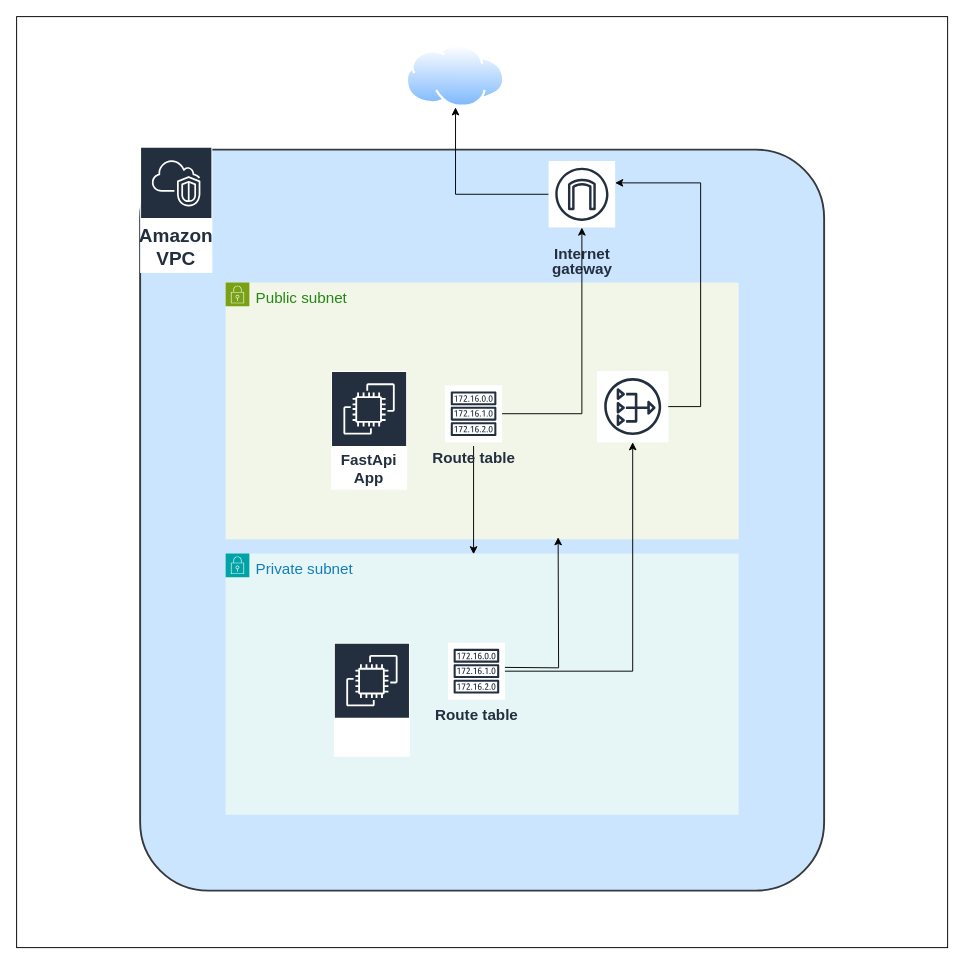
Some shapes in this 964 by 964 pixel diagram are drawn without their labels. The shapes that lost their labels are listed below. From the top down, each one's centre as x and y in pixels, then its label:
point (455, 76): Internet
point (632, 406): NAT gateway
point (371, 699): Postgres DB
